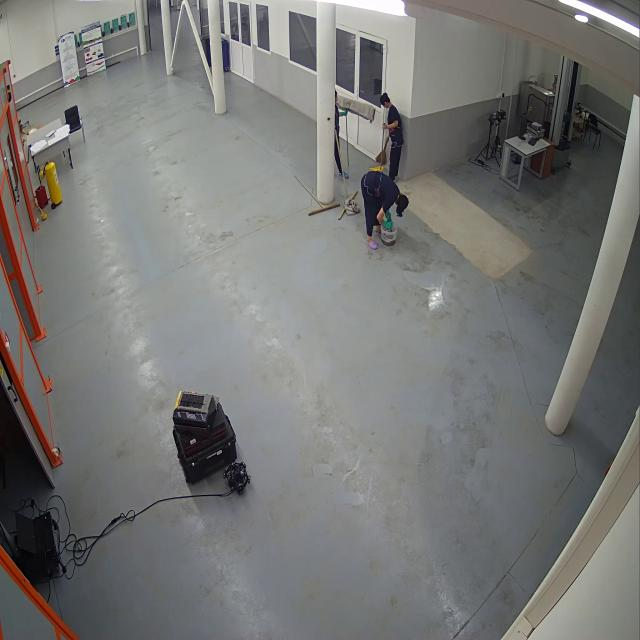NO-Hardhat: (401, 196, 408, 210), (381, 95, 388, 104)
Person: (360, 163, 413, 254), (375, 94, 405, 184), (335, 92, 350, 185)
